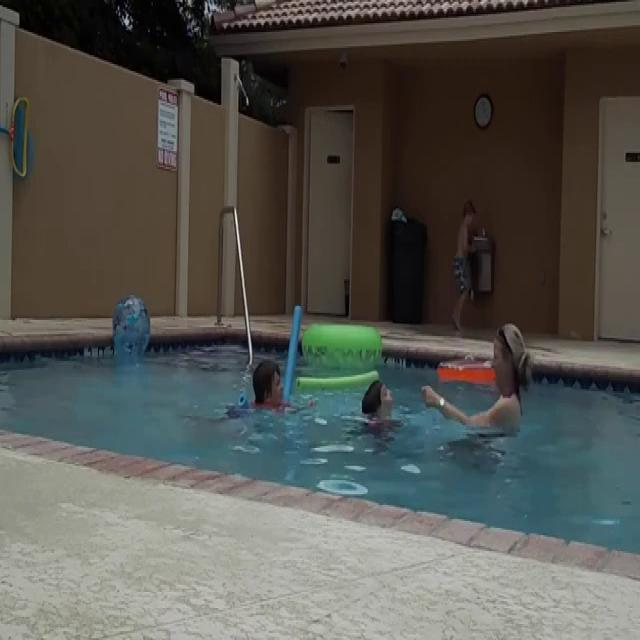adult: (422, 322, 534, 452)
child: (247, 359, 317, 445), (452, 190, 479, 332), (362, 375, 402, 445)
